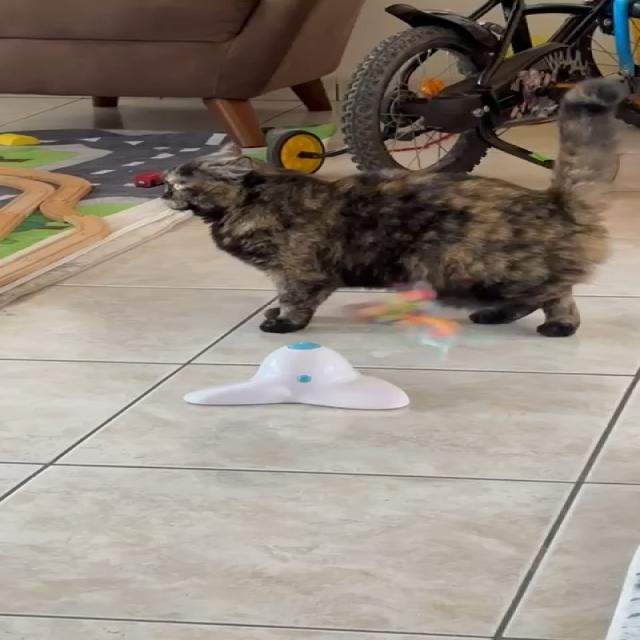authorized: (157, 77, 632, 337)
